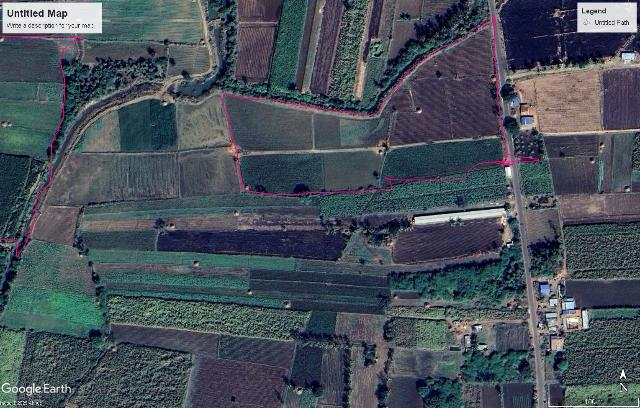DryFarms: (515, 73, 602, 134)
EmptyFarms: (380, 27, 493, 149), (499, 0, 638, 73), (158, 231, 355, 260), (187, 356, 288, 408), (392, 219, 501, 266), (445, 79, 499, 144), (310, 0, 344, 98), (545, 135, 599, 192), (231, 22, 278, 82), (568, 276, 640, 311), (604, 69, 640, 130), (240, 0, 283, 26)
Farms: (21, 330, 193, 408), (0, 238, 107, 341), (109, 294, 314, 342), (322, 166, 507, 219), (48, 154, 181, 206), (379, 136, 506, 189), (563, 310, 640, 387), (223, 96, 314, 157), (0, 81, 63, 165), (103, 0, 206, 45), (563, 221, 640, 278), (327, 0, 369, 100), (266, 0, 311, 91), (109, 322, 221, 356), (238, 153, 325, 195), (175, 94, 232, 155), (180, 145, 243, 199), (119, 98, 175, 155), (0, 36, 66, 83), (312, 112, 389, 152), (217, 334, 296, 371), (325, 149, 384, 197), (70, 105, 122, 153), (80, 39, 168, 64), (169, 43, 208, 79)
